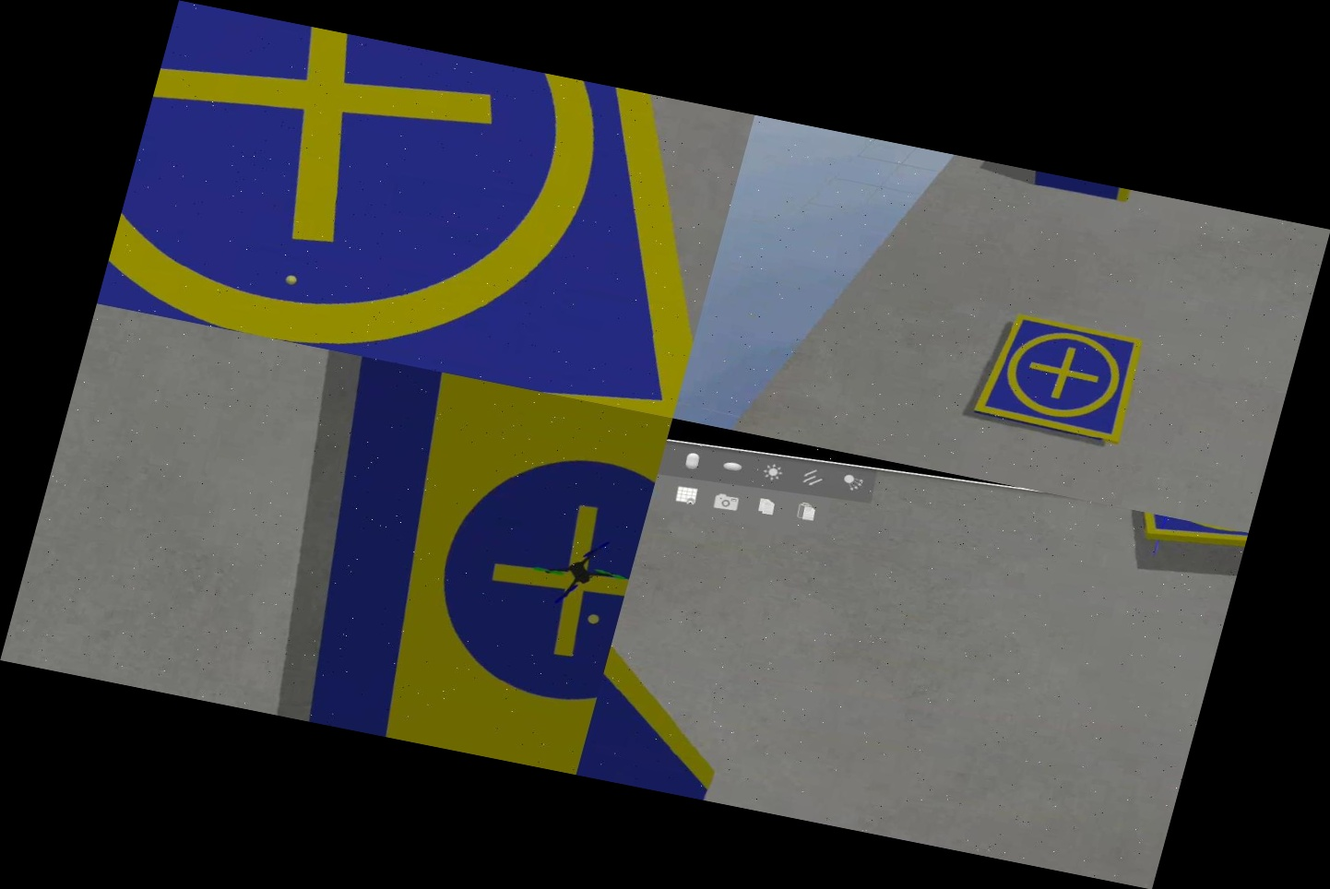large_base: (259, 355, 672, 774)
small_base: (97, 0, 754, 418), (960, 302, 1152, 453), (1139, 513, 1248, 555)
